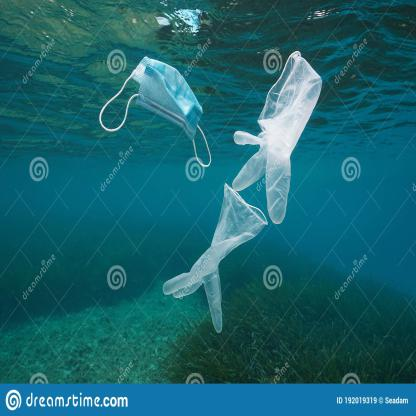waste: (233, 53, 322, 220), (162, 186, 268, 326), (100, 55, 213, 167)
